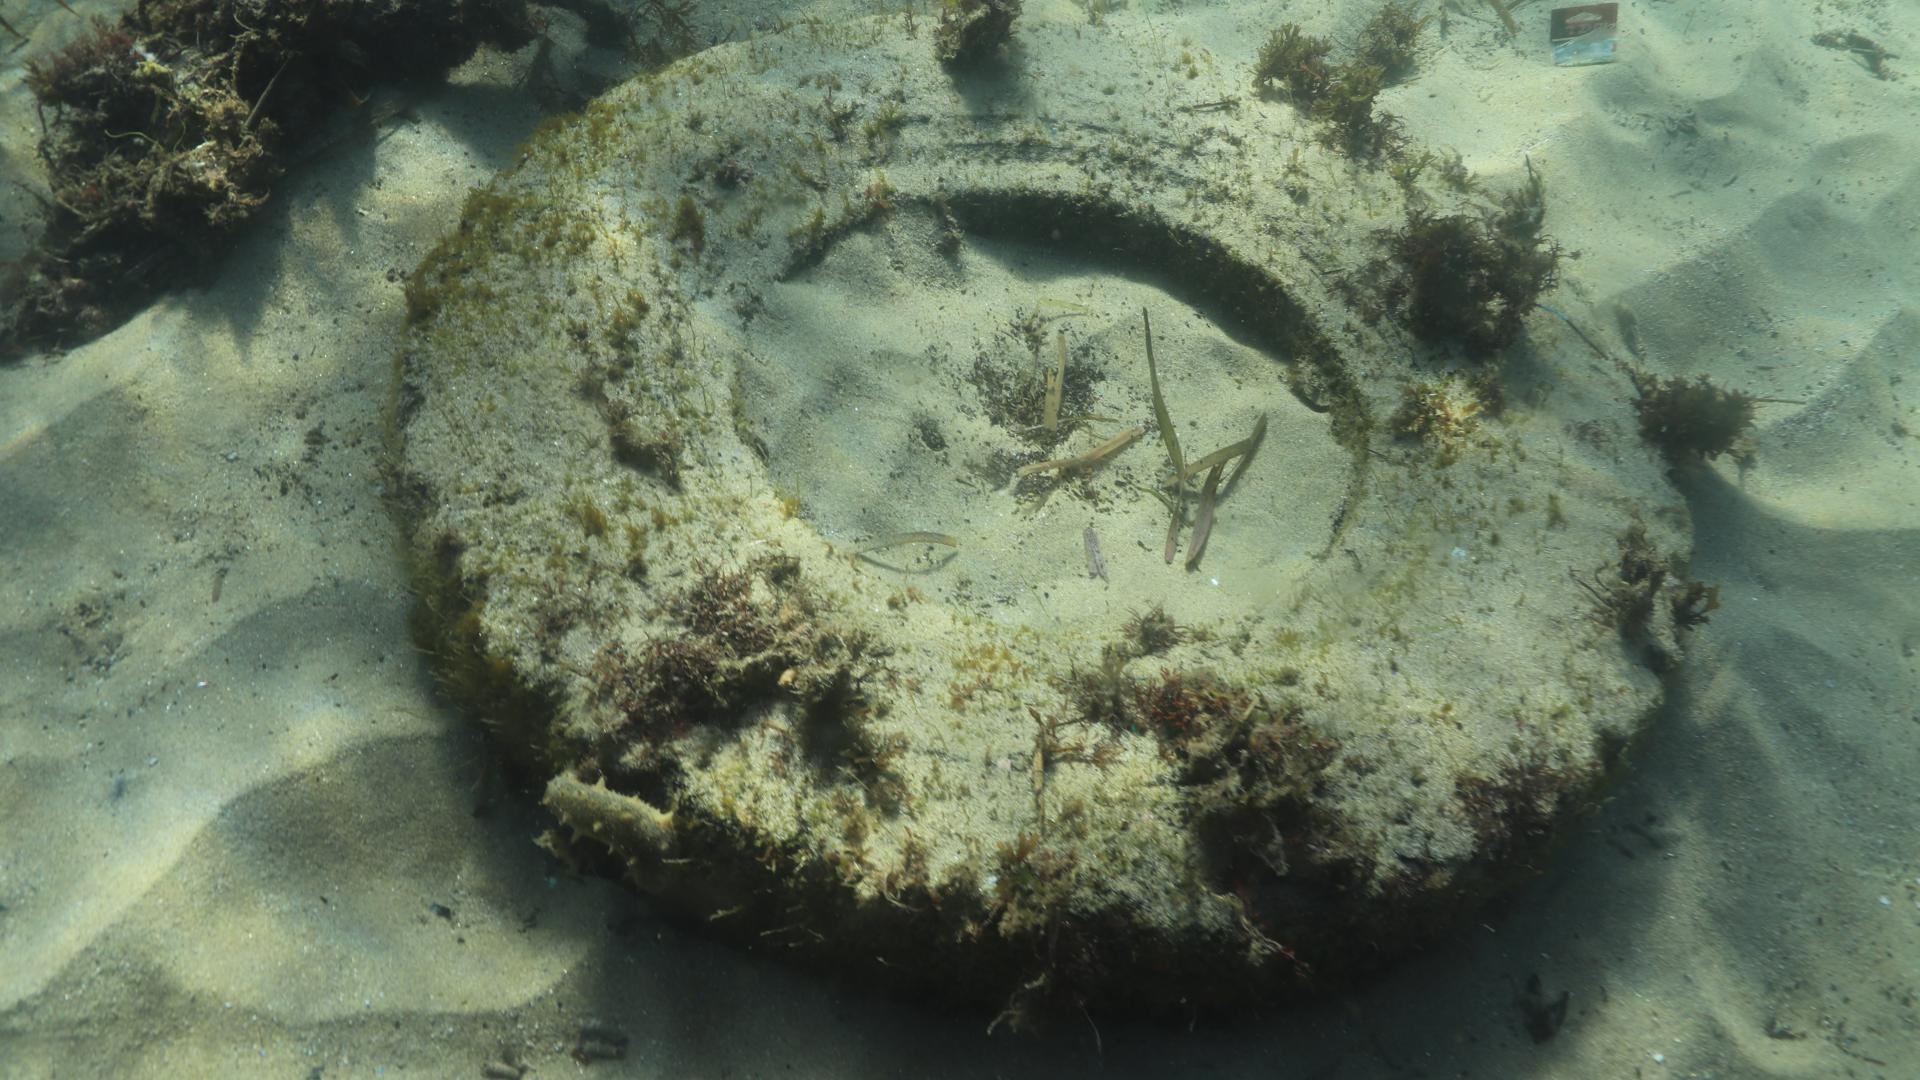tire: (386, 9, 1695, 1026)
